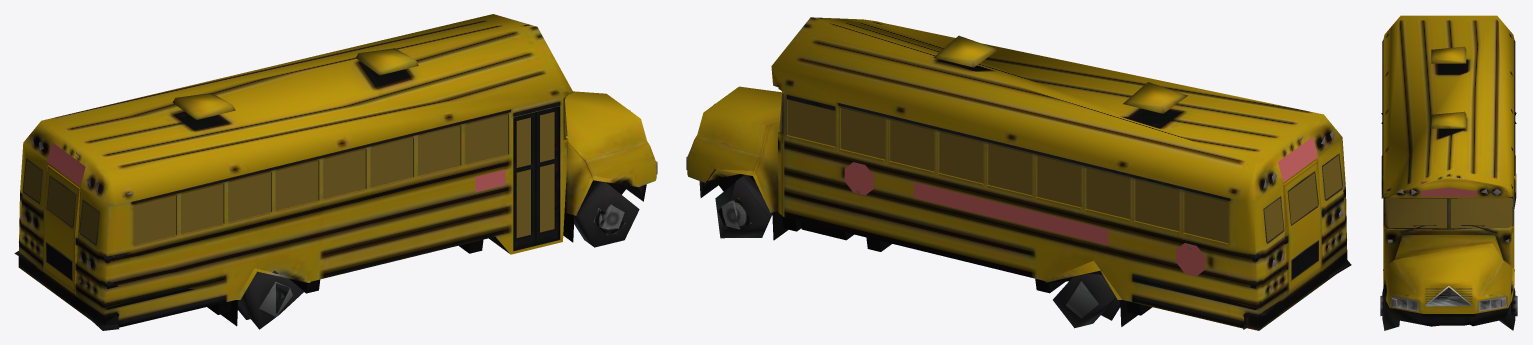
File: civ-schoolbus.lod1.glb
The picture shows the model from 3 angles, left to right: view 1: azimuth 30°, elevation 25°; view 2: azimuth 150°, elevation 25°; view 3: azimuth 270°, elevation 25°; orthographic projection. The views are drawn at different scales.
Parts seen in each view (by area): view 1: school_bus_schoolbus_tex_0, school_bus_schoolbus_glass_0; view 2: school_bus_schoolbus_tex_0, school_bus_schoolbus_glass_0; view 3: school_bus_schoolbus_tex_0, school_bus_schoolbus_glass_0.
Boxes of the visible parts, x1,y1,x2,y2 form: school_bus_schoolbus_tex_0: [14, 14, 656, 330]; school_bus_schoolbus_glass_0: [22, 100, 657, 293]; school_bus_schoolbus_tex_0: [687, 17, 1351, 330]; school_bus_schoolbus_glass_0: [686, 92, 1343, 291]; school_bus_schoolbus_tex_0: [1380, 15, 1517, 330]; school_bus_schoolbus_glass_0: [1384, 181, 1512, 306].
Size of the model in its own units: 7.89 by 2.65 by 2.26.
Materials: 2 (1 with a texture image).
